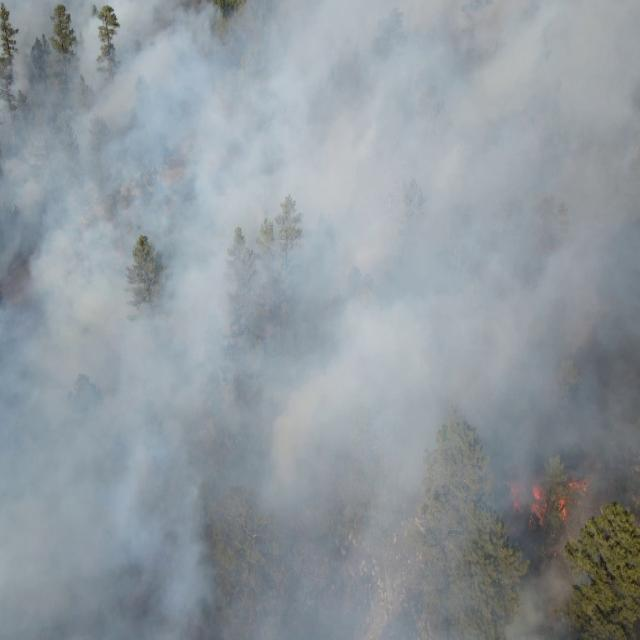fire: (504, 474, 593, 536)
smoke: (0, 0, 601, 640), (603, 0, 640, 536)
